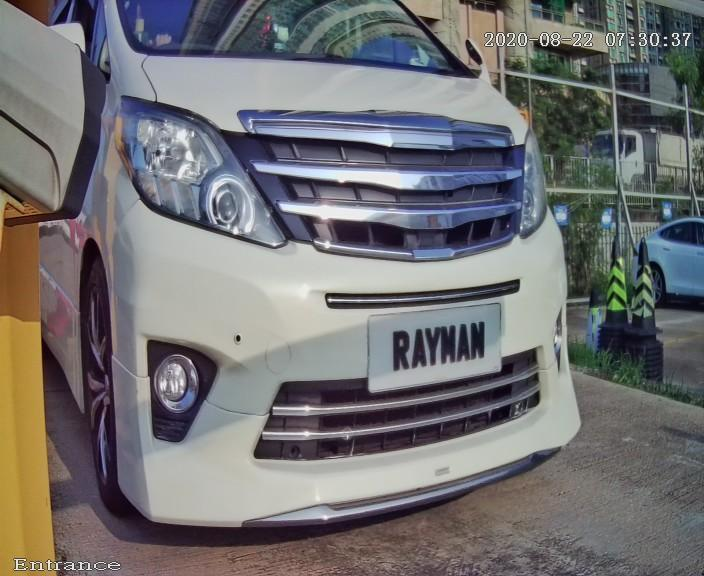Car: (10, 1, 629, 548)
License Plate: (368, 301, 510, 394)
